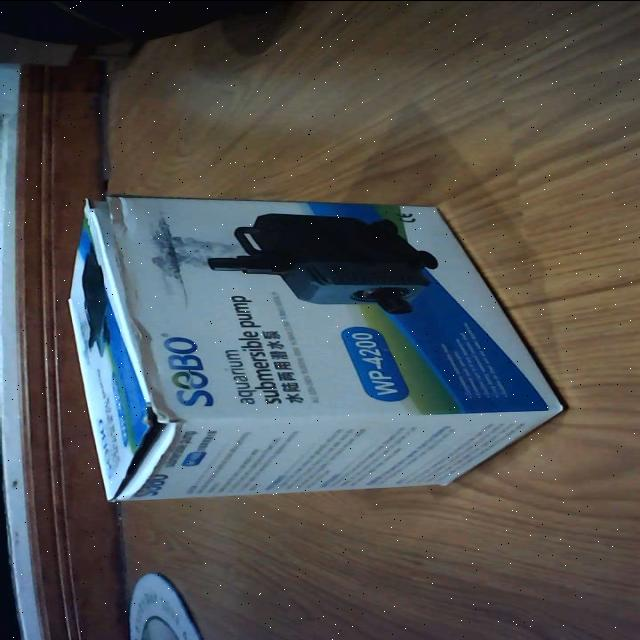SOBO_WP_4200: (46, 188, 576, 512)
